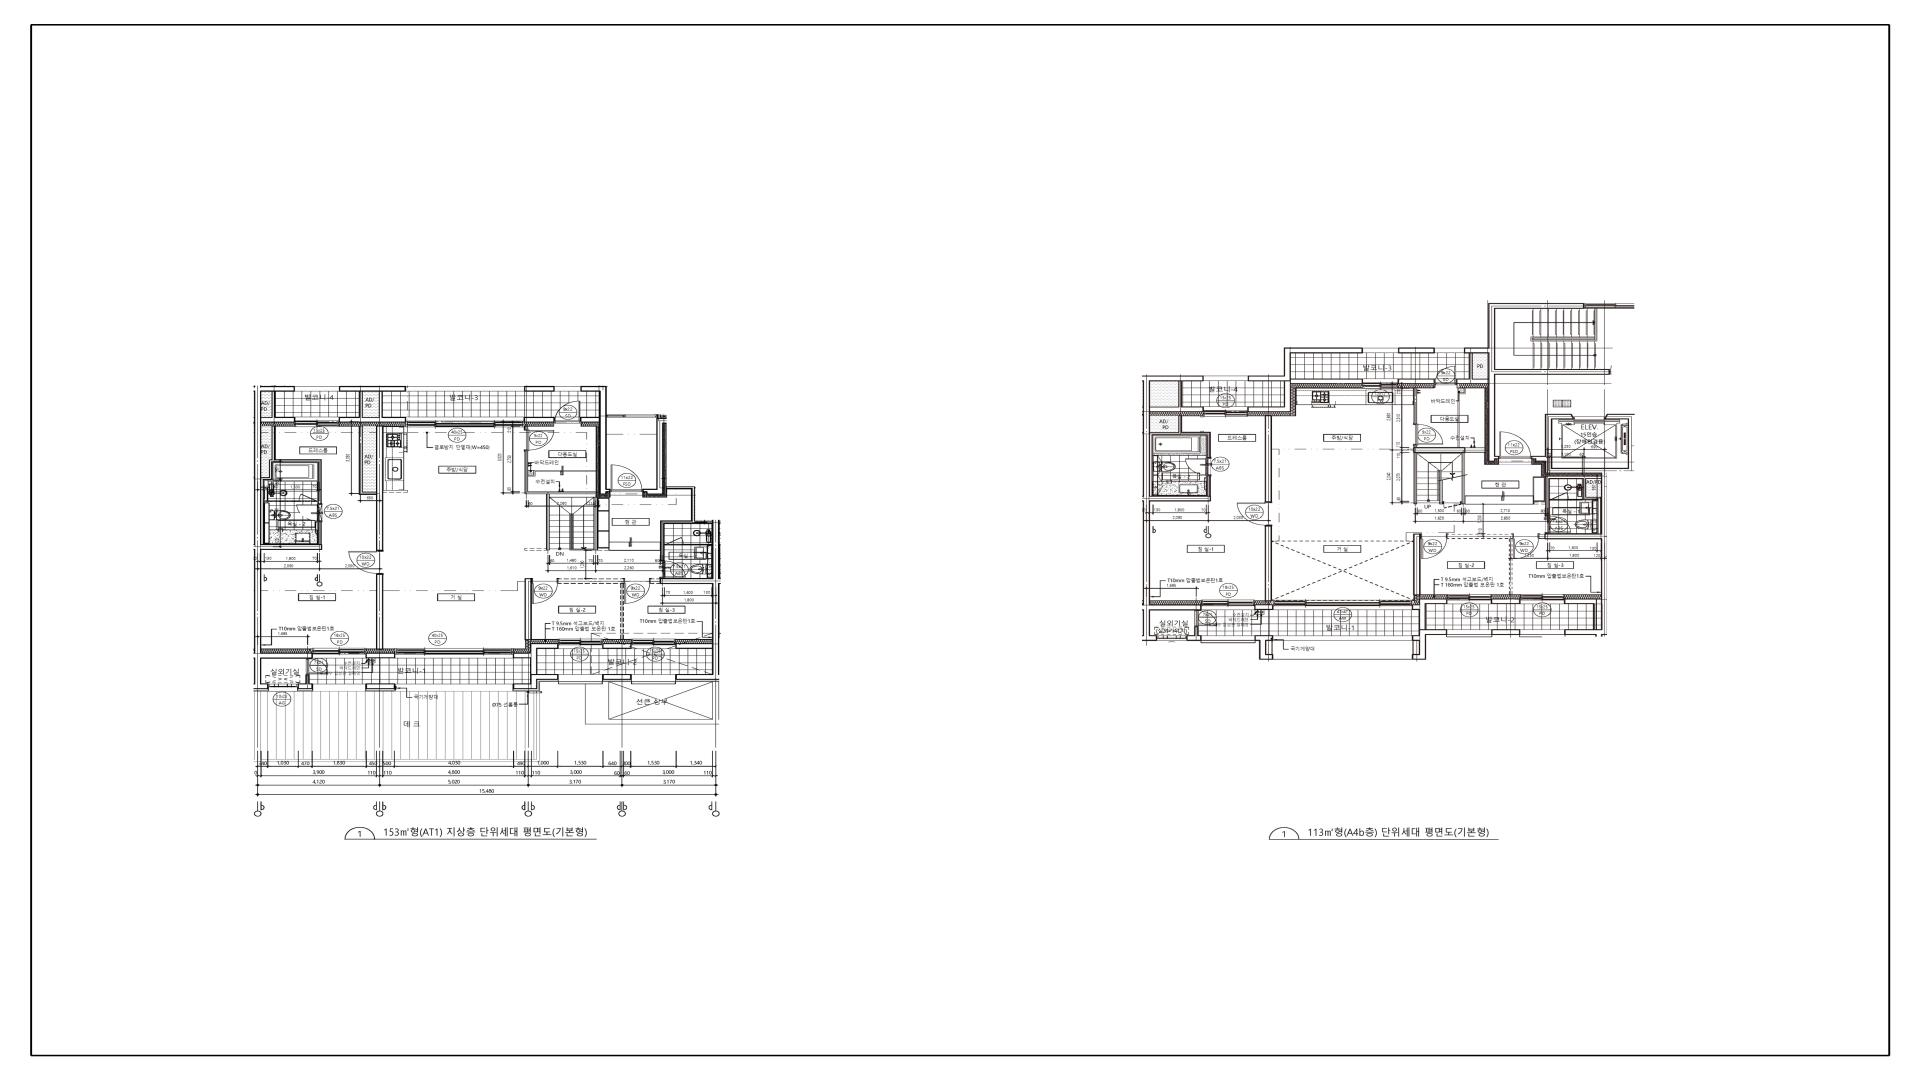door: (1498, 431, 1531, 465), (611, 464, 642, 492), (1237, 502, 1273, 526), (348, 551, 384, 574), (1513, 534, 1539, 559), (1420, 534, 1447, 559), (531, 579, 558, 604), (624, 579, 650, 604), (525, 430, 555, 451), (1414, 425, 1444, 444), (554, 401, 580, 423), (1544, 516, 1571, 534), (661, 560, 686, 579), (297, 504, 322, 522), (1185, 458, 1212, 475), (1435, 367, 1456, 385), (306, 658, 328, 675), (1195, 611, 1217, 626), (665, 537, 683, 546), (299, 493, 318, 502), (1552, 492, 1569, 501)
wall: (1464, 303, 1610, 462), (1531, 414, 1635, 636), (642, 414, 720, 680), (255, 386, 322, 690), (1143, 376, 1211, 641), (261, 426, 322, 545), (525, 451, 596, 550), (1150, 415, 1211, 496), (1414, 444, 1485, 505), (558, 579, 624, 640), (1247, 378, 1364, 413), (1448, 534, 1513, 595), (1247, 348, 1364, 381), (580, 386, 611, 495), (1545, 476, 1601, 534), (359, 426, 384, 551), (339, 392, 406, 422), (1150, 381, 1204, 413), (513, 644, 558, 674), (661, 521, 692, 560), (1565, 599, 1601, 629), (1412, 629, 1448, 659), (261, 392, 295, 422), (1412, 599, 1447, 629), (1456, 353, 1489, 384), (593, 497, 609, 550), (513, 674, 559, 690), (1265, 415, 1273, 502), (376, 574, 384, 650), (1265, 526, 1273, 601), (513, 680, 559, 691), (1254, 636, 1274, 659), (525, 579, 531, 641), (1414, 534, 1420, 596), (339, 386, 406, 392), (1398, 347, 1435, 353), (298, 675, 313, 690), (1187, 626, 1201, 641), (365, 683, 396, 690), (607, 414, 657, 418), (675, 644, 712, 649), (1398, 378, 1435, 384), (603, 674, 632, 680), (1491, 629, 1520, 636), (525, 386, 555, 392), (524, 417, 554, 422), (603, 644, 632, 649), (367, 653, 396, 658), (1491, 599, 1520, 604), (1414, 388, 1418, 425), (1254, 605, 1274, 611), (580, 417, 599, 422), (318, 522, 322, 545), (1207, 475, 1211, 496), (675, 680, 720, 682), (650, 579, 659, 584), (365, 690, 396, 691), (603, 680, 632, 682), (683, 545, 712, 546), (1539, 534, 1544, 539), (298, 690, 313, 691), (255, 690, 269, 691), (524, 426, 527, 430)
window: (1274, 600, 1412, 611), (406, 417, 524, 427), (396, 649, 513, 658), (396, 683, 513, 691), (1274, 636, 1412, 641), (406, 386, 525, 392), (1201, 600, 1254, 611), (313, 649, 367, 658), (558, 638, 603, 649), (1204, 406, 1247, 417), (632, 674, 675, 684), (559, 674, 603, 684), (295, 417, 339, 427), (1201, 636, 1254, 644), (313, 683, 365, 691), (1520, 595, 1565, 604), (632, 640, 675, 649), (1448, 595, 1491, 604), (1364, 378, 1398, 389), (1520, 630, 1564, 637), (1448, 630, 1491, 637), (1585, 303, 1635, 309), (294, 386, 339, 392), (1204, 376, 1247, 381), (269, 683, 298, 691), (1364, 348, 1398, 353), (1435, 348, 1464, 353), (1158, 636, 1187, 641), (555, 386, 580, 392)
